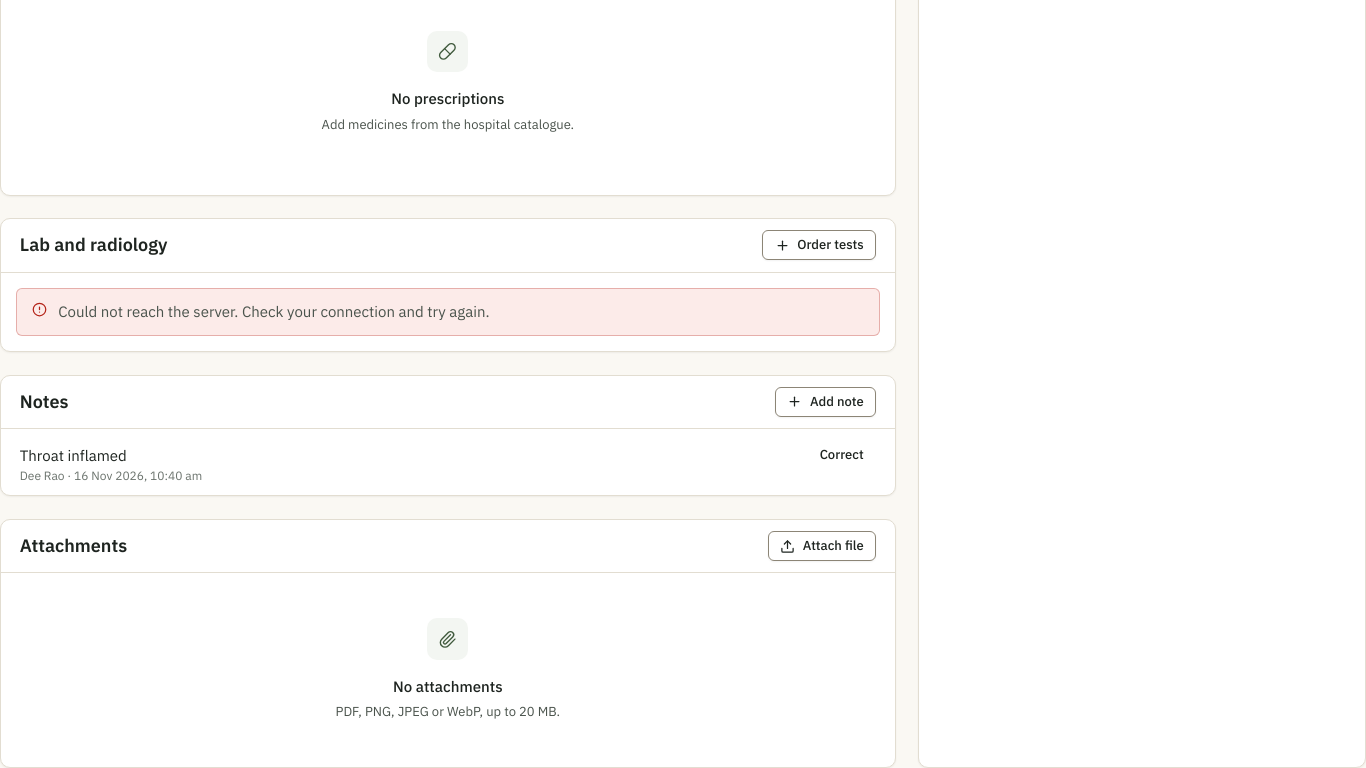
Test: RecordView › shows the encounter with BMI and an allergy warning, and the treating doctor adds a note
This screenshot has width=1366, height=768.
(page scrolled)
expect the text "Throat inflamed" is shown: met, box left=20, top=446, right=127, bottom=465
Click the button "Add note" at coordinates (826, 402), box left=775, top=387, right=876, bottom=417
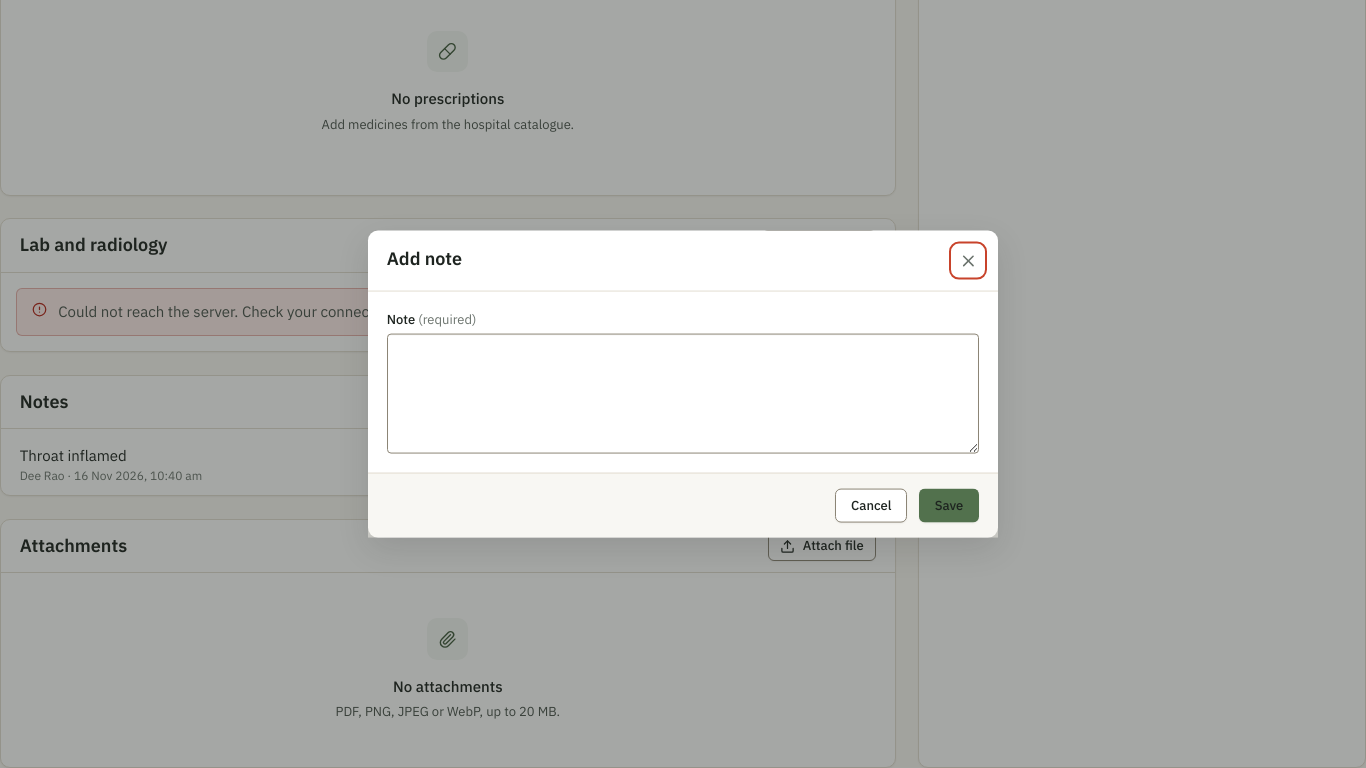
Type "New finding" into the text box labelled "Note (required)" at coordinates (683, 394), box left=387, top=334, right=979, bottom=454
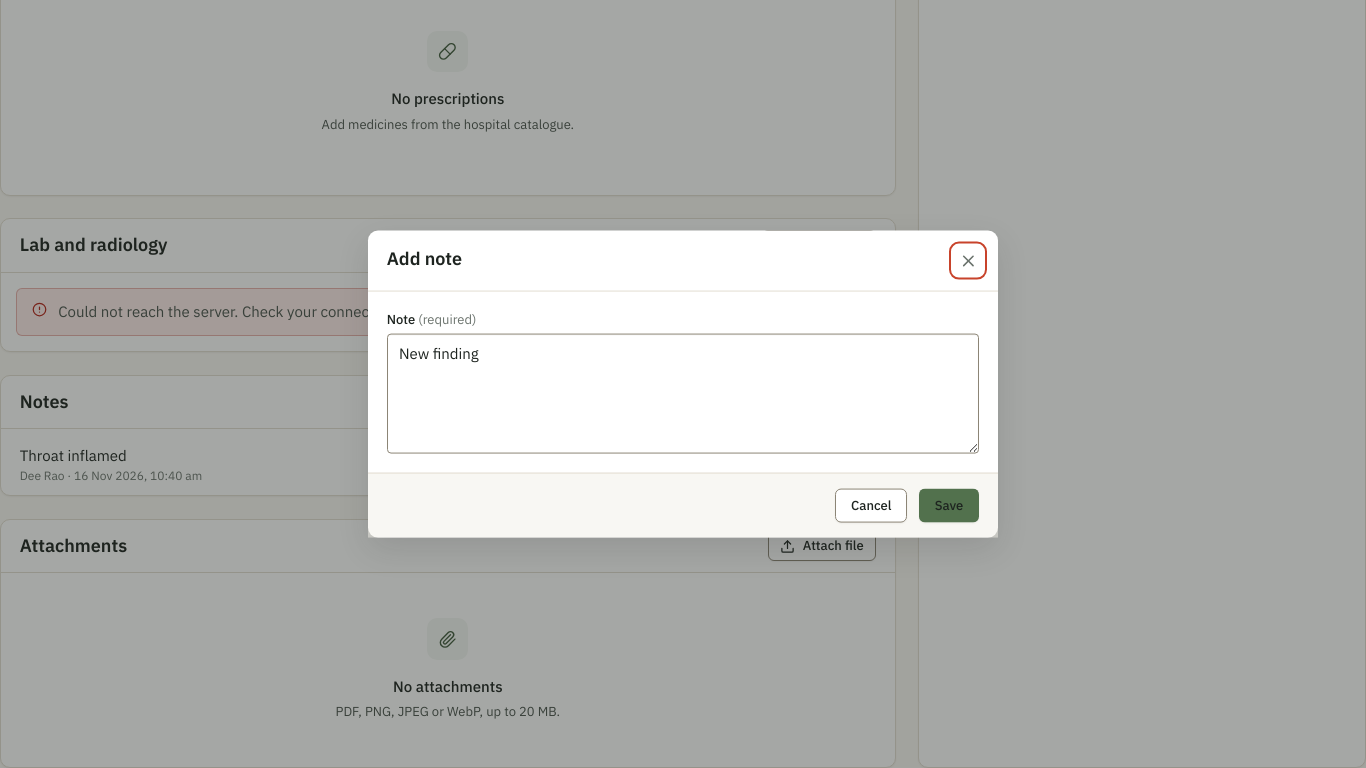
Click the button "Save" at coordinates (949, 506), box left=919, top=489, right=979, bottom=522
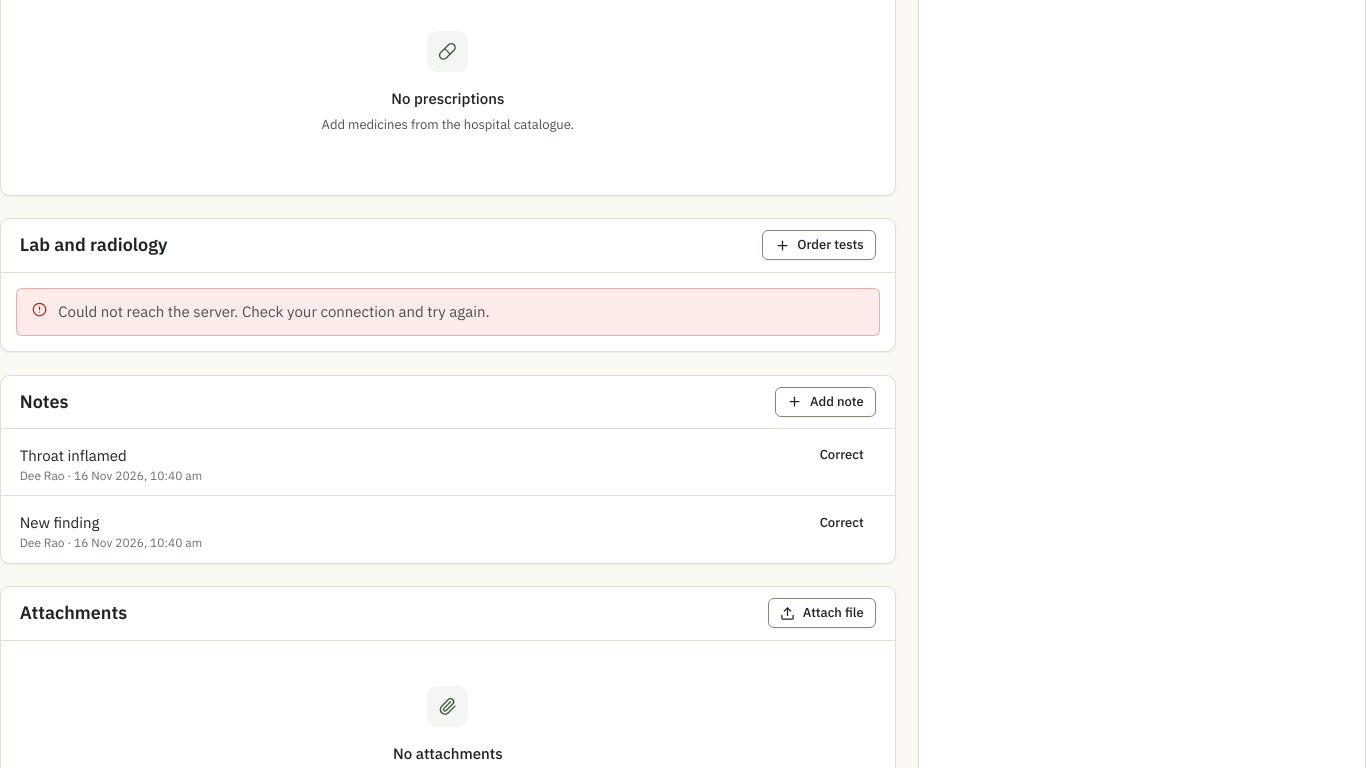
expect the text "New finding" is shown: met, box left=20, top=513, right=100, bottom=532
